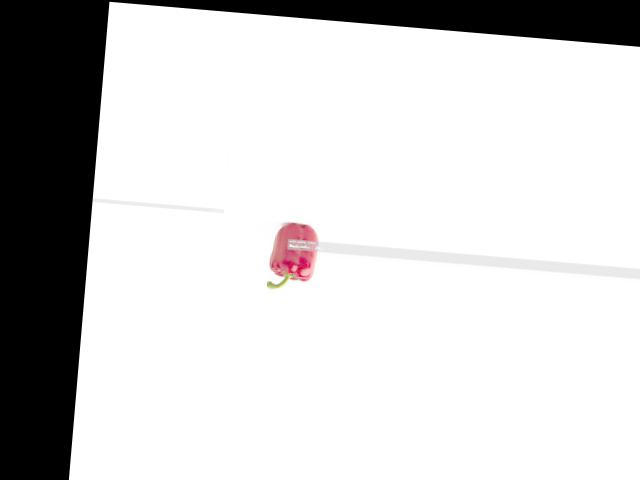bell_pepper: (259, 222, 323, 296)
